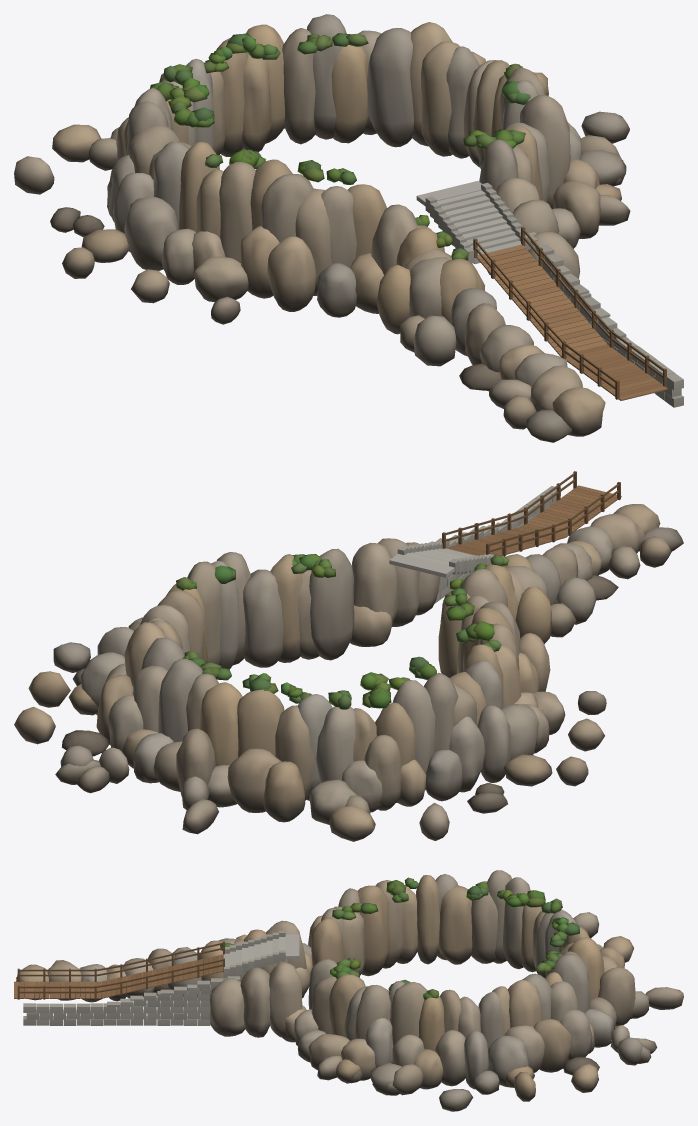
The model's file is headland.glb.
The picture shows the model from 3 angles, top to bottom: view 1: azimuth 30°, elevation 25°; view 2: azimuth 150°, elevation 25°; view 3: azimuth 270°, elevation 25°; orthographic projection. The views are drawn at different scales.
Parts seen in each view (by area): view 1: headland; view 2: headland; view 3: headland.
Part boxes in pixels (x1,y1,x2,y2): headland: [14, 14, 683, 442]; headland: [14, 471, 683, 841]; headland: [14, 870, 683, 1111].
Bounding box in the file's own units: 42.64 × 9.1 × 60.04.
